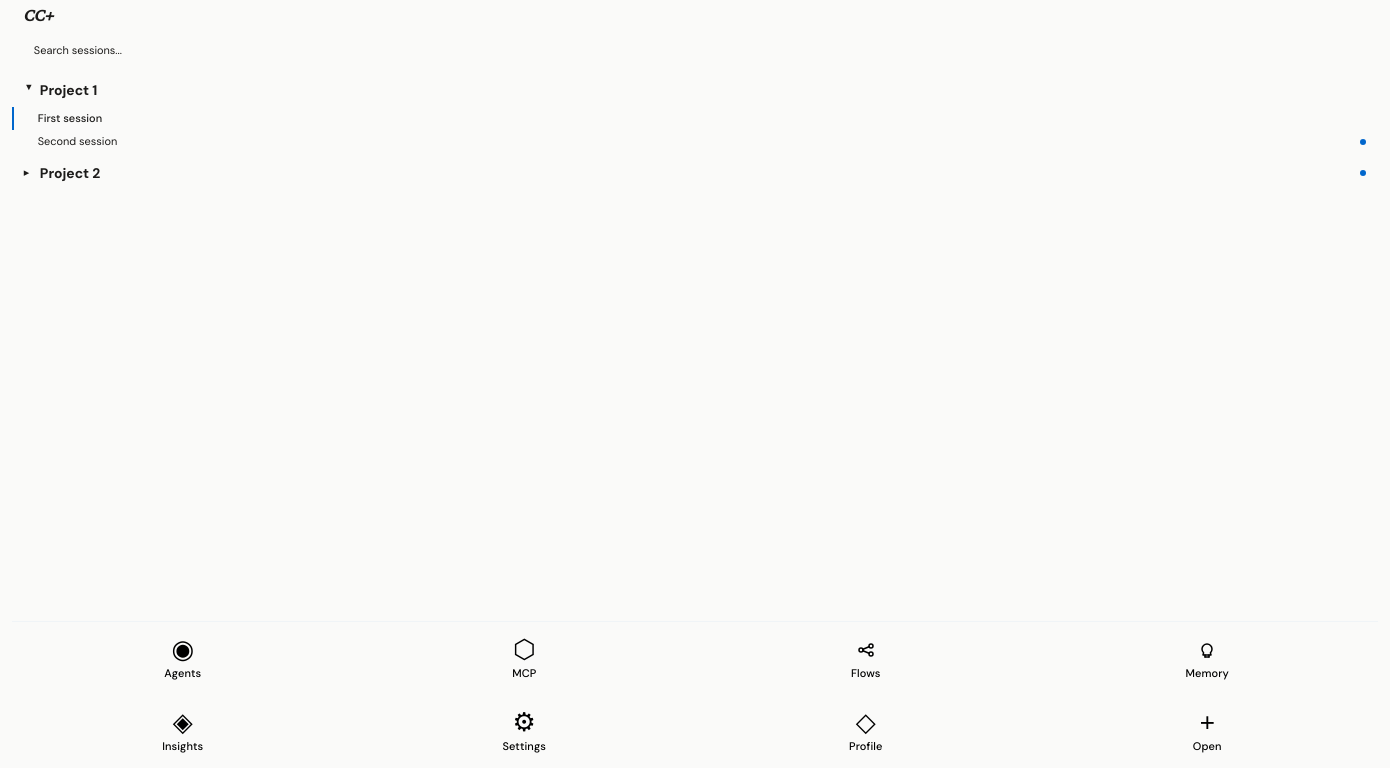
Test case: ProjectSidebar Search Integration › displays search results from API
This screenshot has width=1390, height=768.
In the field with placeholder "Search sessions...": (695, 50) [24,37,1366,63], type "test"
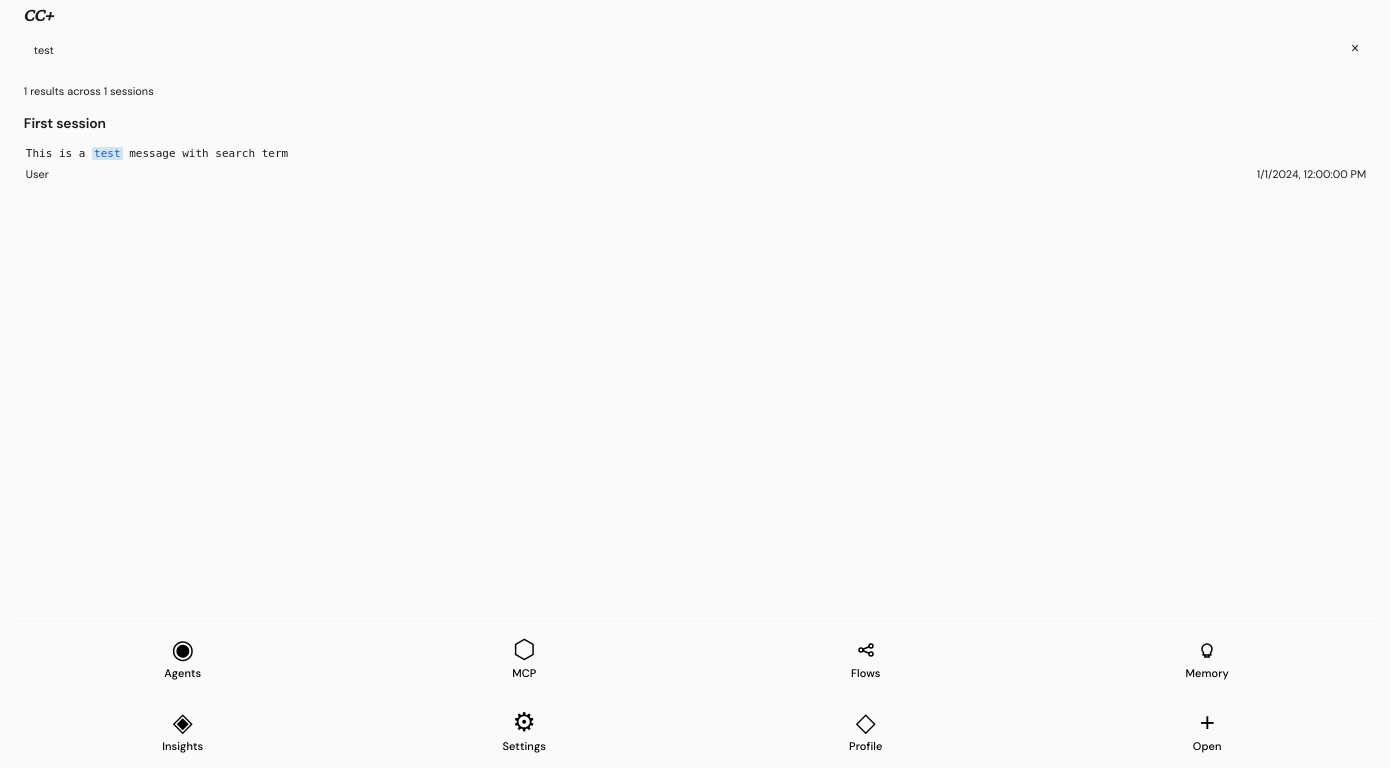
Expected: the button "First session" is shown, [24,114,106,132]
Expected: the text "1 results across 1 sessions" is shown, [24,84,154,98]
